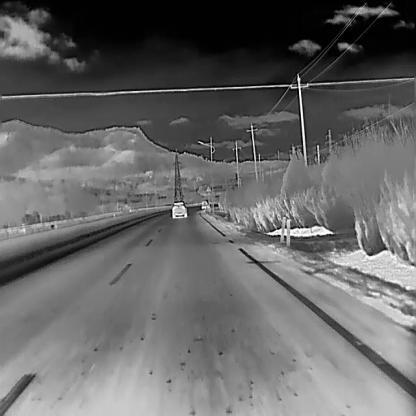car: (170, 201, 186, 219), (199, 199, 209, 210)
